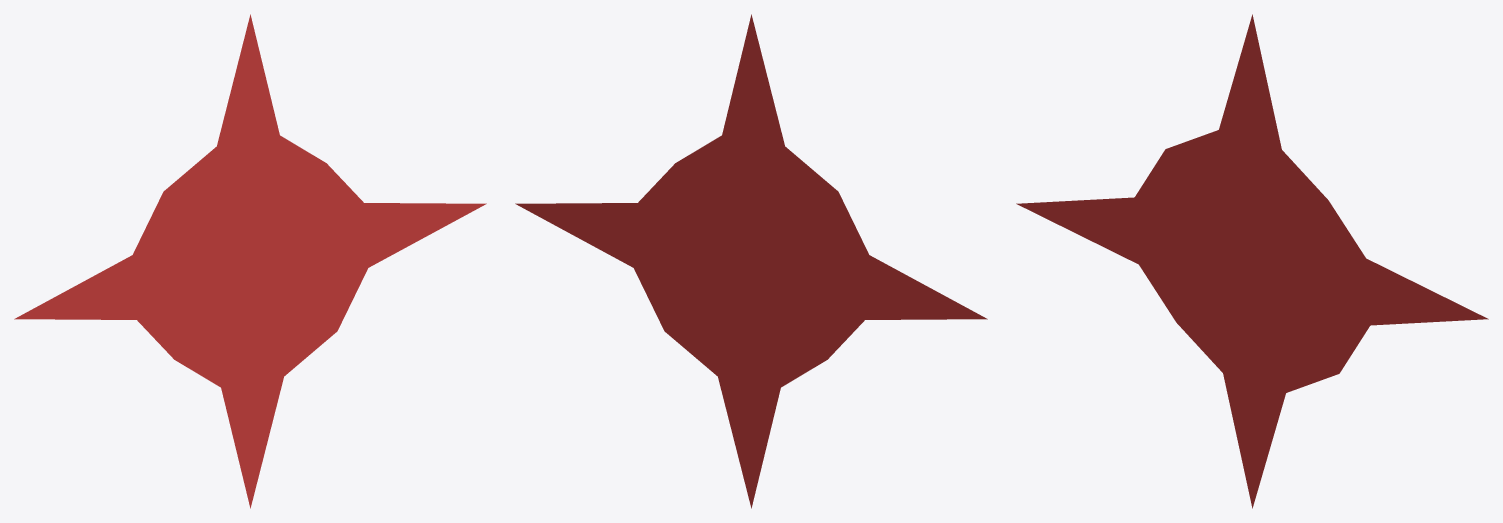
The picture shows the model from 3 angles, left to right: view 1: azimuth 30°, elevation 25°; view 2: azimuth 150°, elevation 25°; view 3: azimuth 330°, elevation 25°; orthographic projection.
Parts seen in each view (by area): view 1: Cube; view 2: Cube; view 3: Cube.
Part boxes in pixels (<box>): Cube: <box>14,14,486,508</box>; Cube: <box>515,14,987,508</box>; Cube: <box>1016,14,1488,508</box>.
Size of the model in its own units: 0.1859 by 0.1859 by 3.92e-09.
